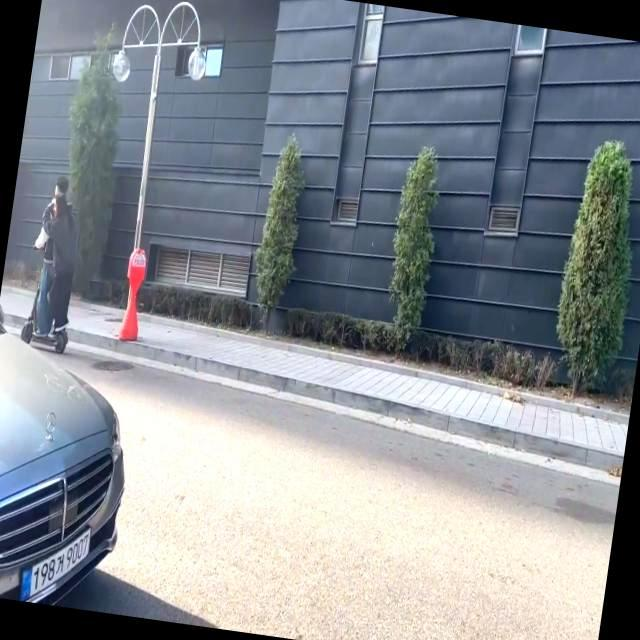bare_head: (52, 175, 70, 199), (50, 196, 66, 218)
human: (27, 177, 71, 336), (49, 198, 72, 333)
kickboard: (16, 319, 79, 358)
